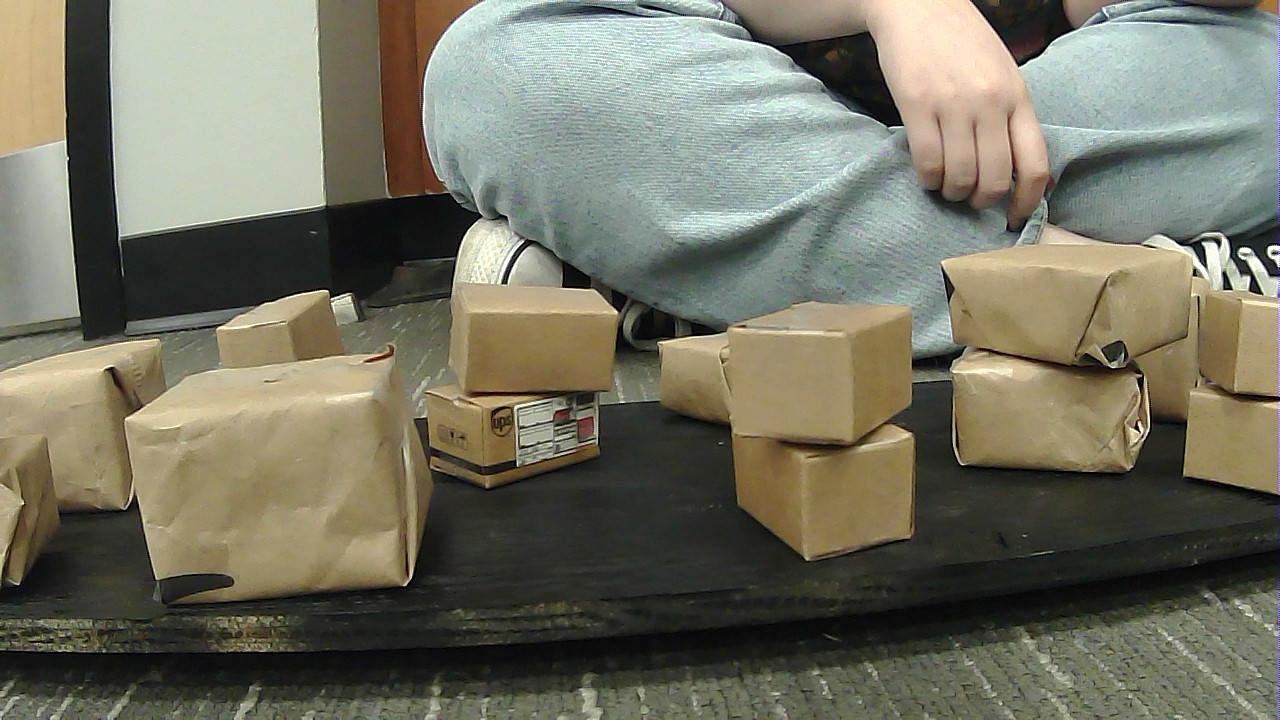package: (124, 364, 442, 583), (921, 233, 1196, 370), (718, 423, 953, 558), (934, 338, 1165, 468), (3, 343, 186, 501), (715, 296, 918, 430), (433, 274, 626, 399), (423, 382, 623, 475), (1171, 376, 1274, 489), (639, 320, 745, 420), (10, 427, 76, 584), (212, 297, 361, 358), (1202, 295, 1277, 399)
stacked: (686, 296, 930, 548), (949, 213, 1148, 463), (419, 263, 619, 477), (1193, 292, 1277, 493)
